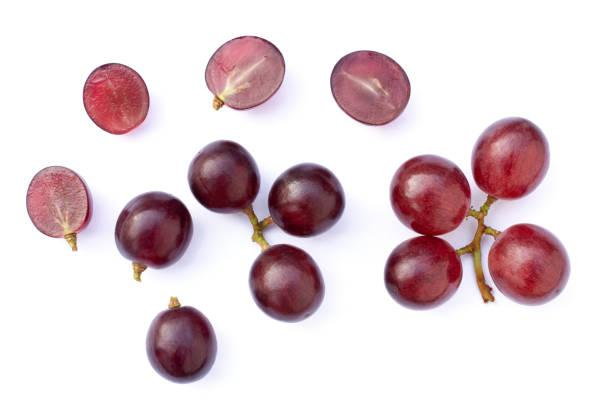grape: (463, 99, 557, 208), (387, 139, 484, 238), (485, 219, 579, 319), (201, 22, 290, 123), (241, 238, 336, 330), (322, 37, 416, 128), (21, 159, 101, 262), (115, 182, 195, 285), (145, 284, 224, 387), (378, 234, 467, 324), (79, 57, 158, 150), (265, 149, 342, 238), (186, 132, 262, 218)
